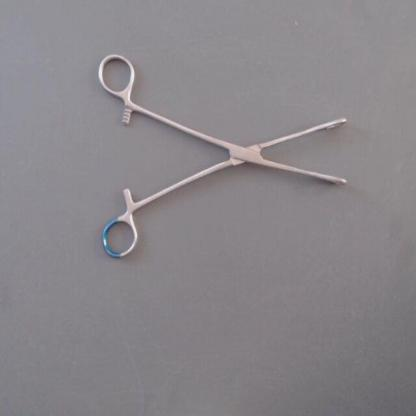Sponge Forceps: (91, 44, 358, 267)
